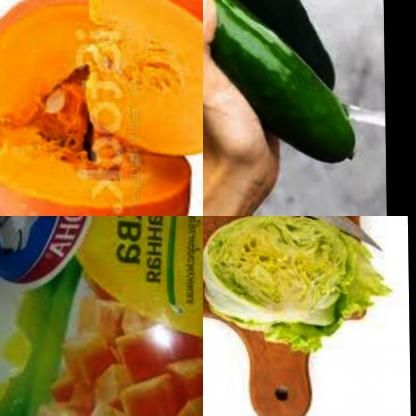cucumber: (203, 0, 358, 165), (203, 0, 338, 92)
pumpkin: (0, 0, 200, 216), (25, 266, 203, 416), (75, 0, 203, 157)
salad: (203, 216, 398, 350)
